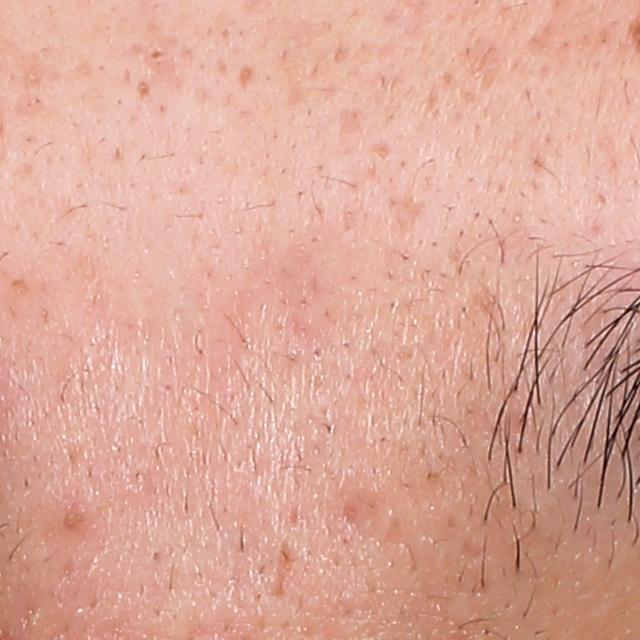atrophic_scar: (268, 535, 303, 600), (334, 104, 365, 149), (236, 61, 257, 94)
comedo: (144, 42, 168, 66), (132, 77, 153, 104)
